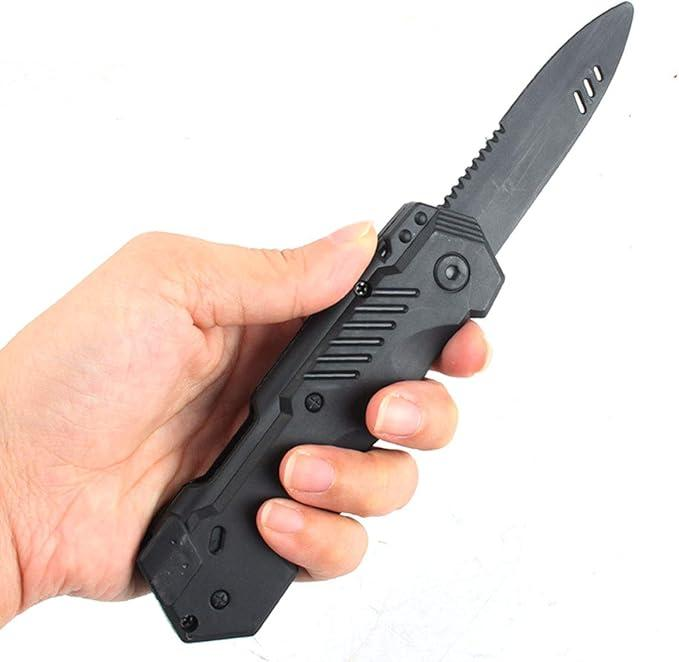Knife: (0, 218, 490, 634), (46, 222, 493, 595), (372, 3, 635, 315)
